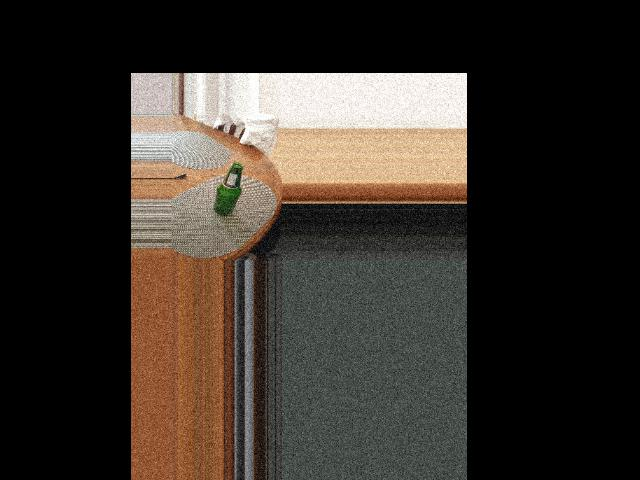beer: (213, 163, 241, 215)
